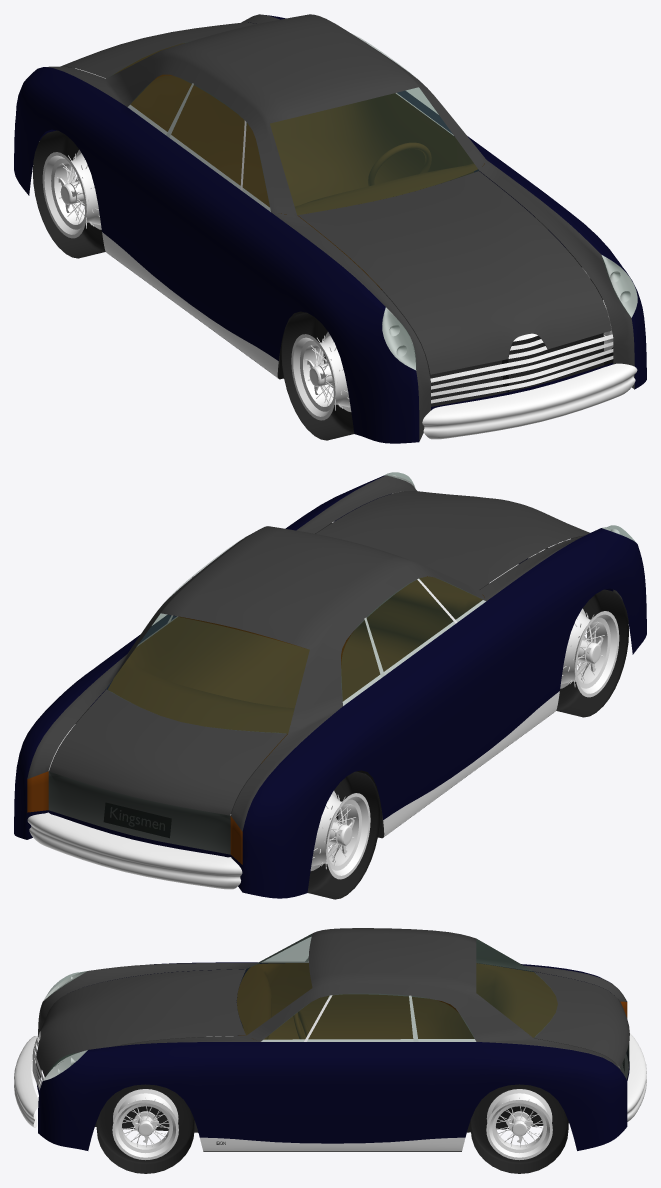
Rendered from Ponton.glb.
The picture shows the model from 3 angles, top to bottom: view 1: azimuth 30°, elevation 25°; view 2: azimuth 150°, elevation 25°; view 3: azimuth 270°, elevation 25°; orthographic projection. The views are drawn at different scales.
Parts seen in each view (by area): view 1: body.001, glas, int, rim, bug, pneu, floor, glas.001, sw, chrome, spoke, Torus; view 2: body.001, glas, int, rim, heck.001, pneu, heck, chrome, Polygon_1_2, spoke; view 3: body.001, glas, int, pneu, rim, bug, floor, heck.001, chrome, spoke, glas.001, sw.
Boxes of the visible parts, <box> form: body.001: <box>14,14,646,443</box>; glas: <box>113,35,478,214</box>; int: <box>114,43,484,289</box>; rim: <box>42,149,613,420</box>; bug: <box>422,363,637,439</box>; pneu: <box>32,130,613,440</box>; floor: <box>117,217,604,406</box>; glas.001: <box>382,255,637,369</box>; sw: <box>382,255,637,369</box>; chrome: <box>128,41,453,211</box>; spoke: <box>57,153,608,410</box>; Torus: <box>368,142,431,185</box>; body.001: <box>14,475,646,898</box>; glas: <box>106,541,485,733</box>; int: <box>108,576,484,763</box>; rim: <box>49,608,619,879</box>; heck.001: <box>27,813,242,889</box>; pneu: <box>75,523,628,899</box>; heck: <box>46,772,233,860</box>; chrome: <box>137,536,485,705</box>; Polygon_1_2: <box>104,803,170,837</box>; spoke: <box>312,612,604,869</box>; body.001: <box>32,928,629,1151</box>; glas: <box>237,934,557,1041</box>; int: <box>236,963,557,1039</box>; pneu: <box>96,1084,568,1173</box>; rim: <box>112,1089,552,1160</box>; bug: <box>14,1036,39,1127</box>; floor: <box>95,1037,615,1151</box>; heck.001: <box>627,1033,646,1121</box>; chrome: <box>261,957,475,1041</box>; spoke: <box>122,1097,543,1147</box>; glas.001: <box>43,971,87,1080</box>; sw: <box>43,971,87,1080</box>.
Bounding box in the file's own units: 17.22 × 13.15 × 44.01.
